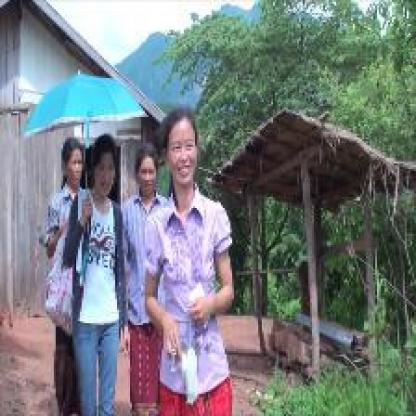other: (133, 318, 237, 408)
